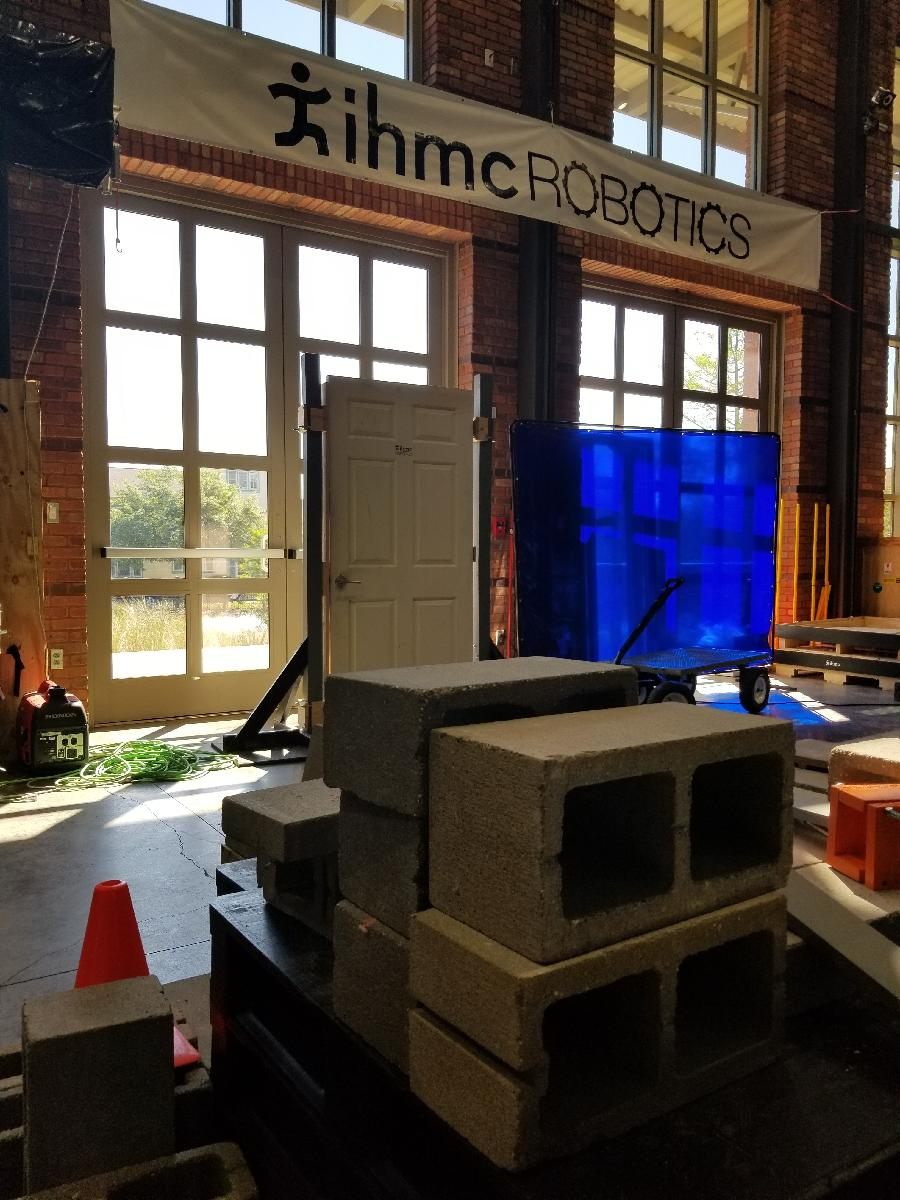door: (319, 375, 482, 760)
doorHandle: (328, 575, 363, 598)
